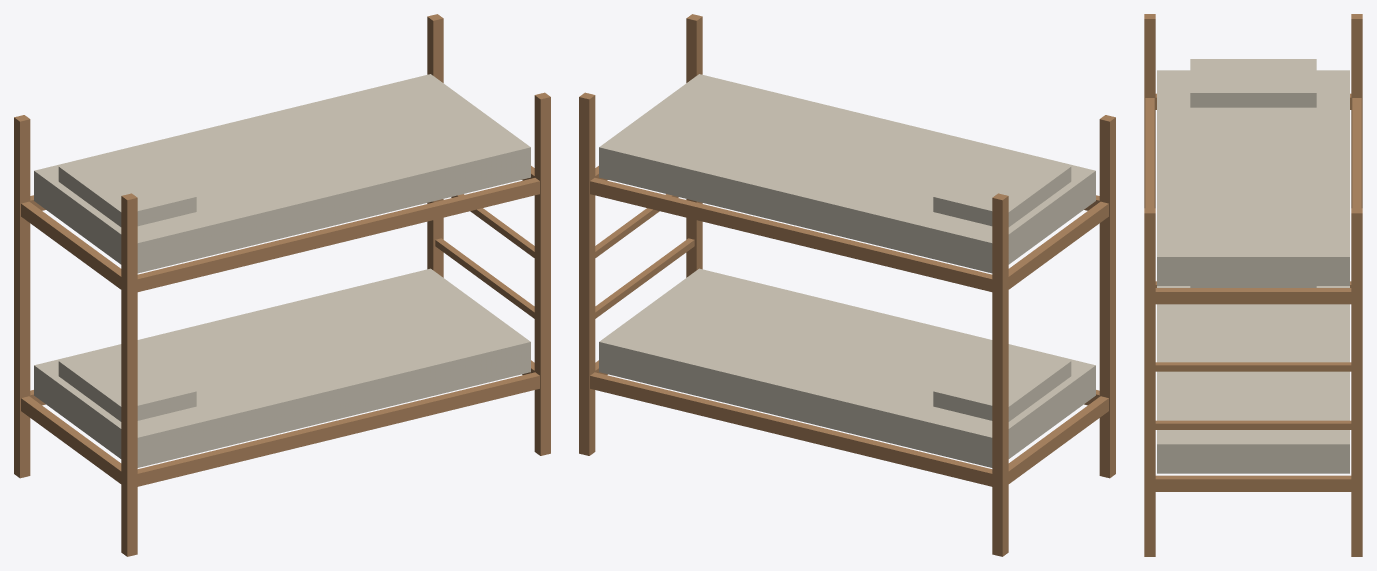
The model's file is bunk.glb.
3 renders of one model, left to right at view 1: azimuth 30°, elevation 25°; view 2: azimuth 150°, elevation 25°; view 3: azimuth 270°, elevation 25°, orthographic. The views are drawn at different scales.
Visible parts, largest first — view 1: mattresses, frame; view 2: mattresses, frame; view 3: mattresses, frame.
Part boxes in pixels (left/top/right/bottom): mattresses: left=34, top=74, right=530, bottom=467; frame: left=14, top=14, right=550, bottom=556; mattresses: left=599, top=74, right=1095, bottom=467; frame: left=579, top=14, right=1115, bottom=556; mattresses: left=1157, top=59, right=1349, bottom=473; frame: left=1144, top=14, right=1362, bottom=556.
Size of the model in its own units: 2.05 by 1.65 by 0.95.
